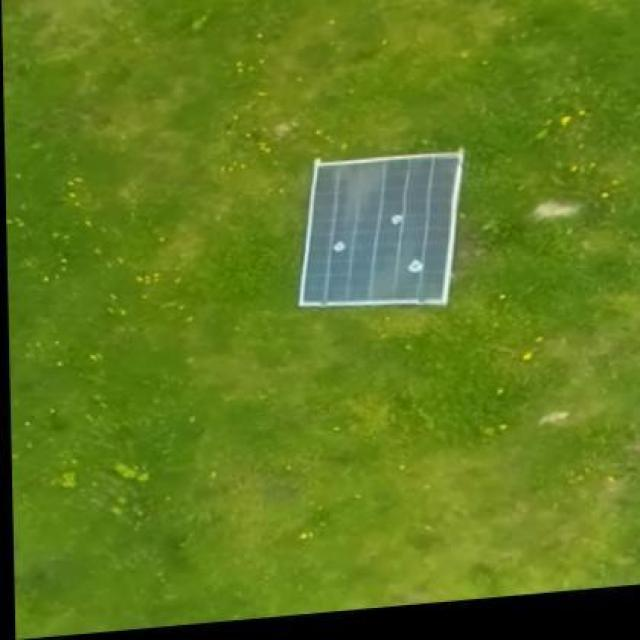soiled: (296, 150, 464, 310)
